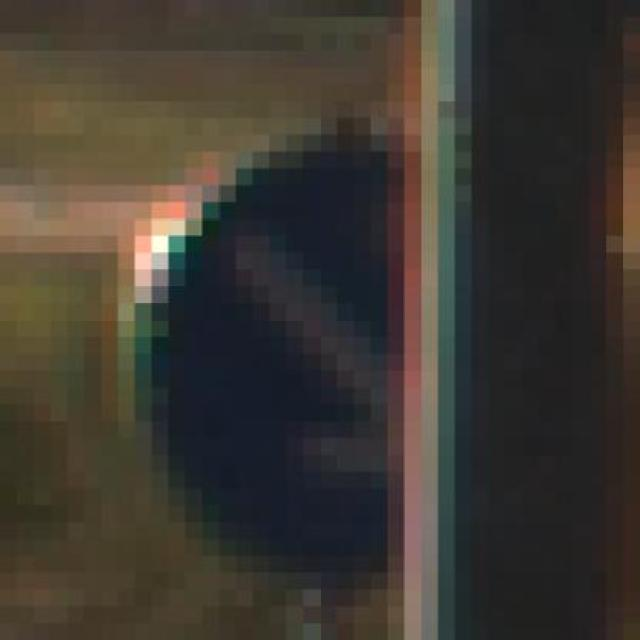Keep-Right: (101, 135, 505, 556)
